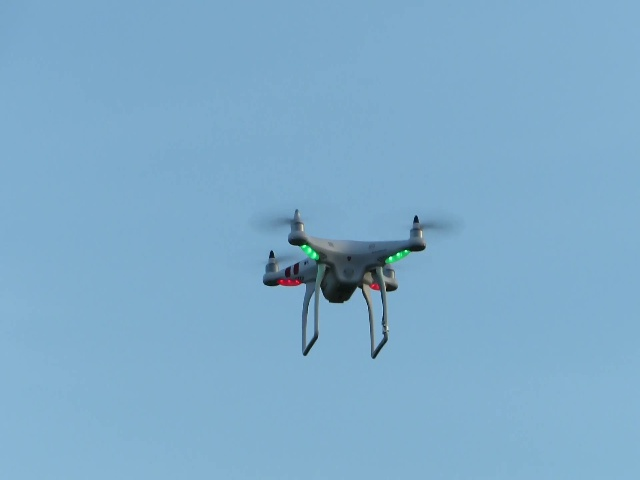drone: (253, 207, 444, 361)
